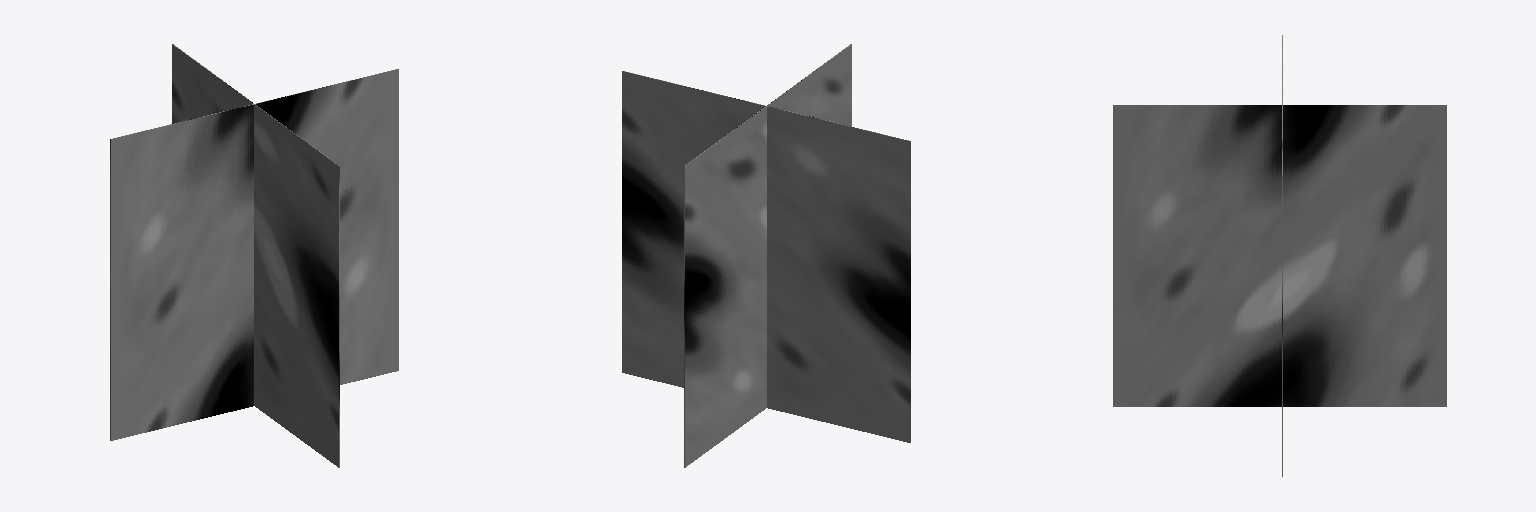
The picture shows the model from 3 angles: view 1: azimuth 30°, elevation 25°; view 2: azimuth 150°, elevation 25°; view 3: azimuth 270°, elevation 25°; orthographic projection.
Parts seen in each view (by area): view 1: plant; view 2: plant; view 3: plant.
Boxes of the visible parts, <box> form: plant: <box>110,44,398,467</box>; plant: <box>622,44,910,467</box>; plant: <box>1113,35,1446,476</box>.
Bounding box in the file's own units: 2.39 × 2.39 × 2.39.
Materials: 1 (1 with a texture image).